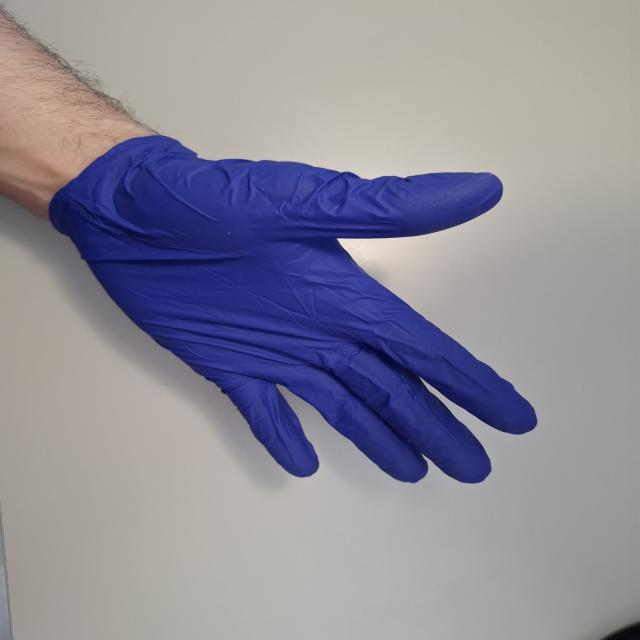glove_on: (36, 114, 541, 486)
